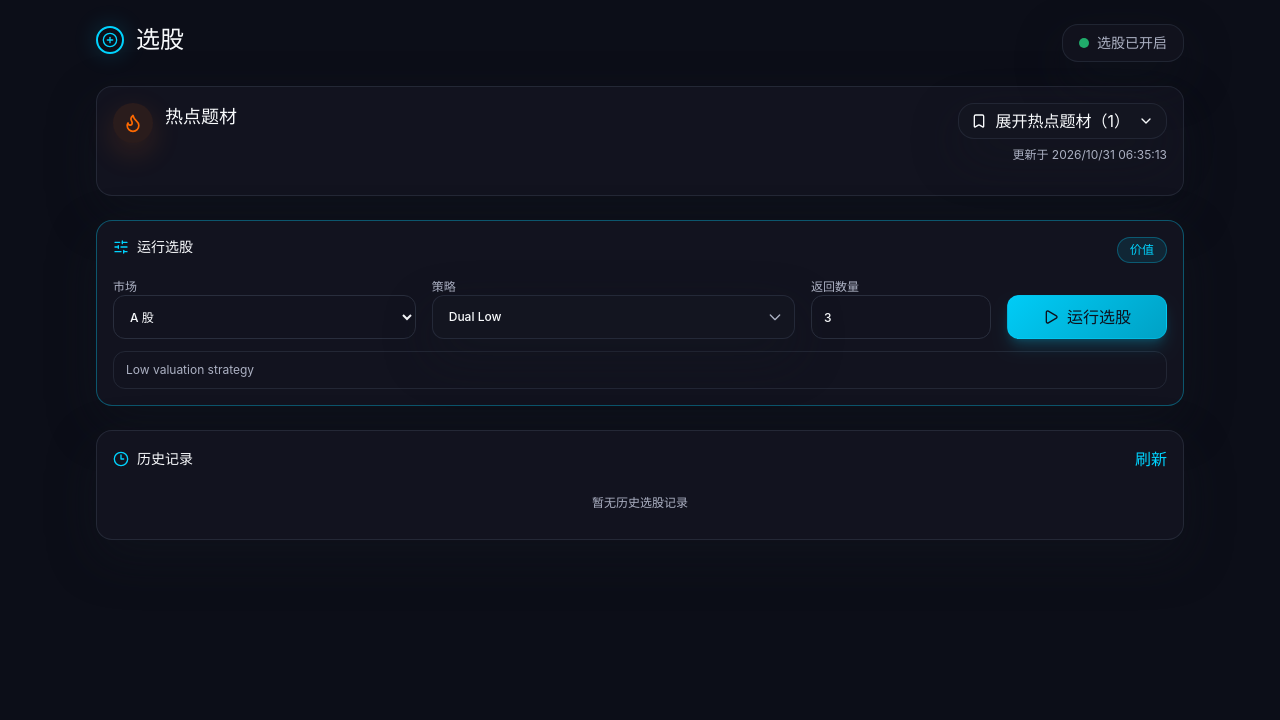
Test: StockScreeningPage › prefers merged hotspot route summaries over raw timeline items
Click the button "展开热点题材（1）".
click(1063, 121)  # box [958,103,1167,139]
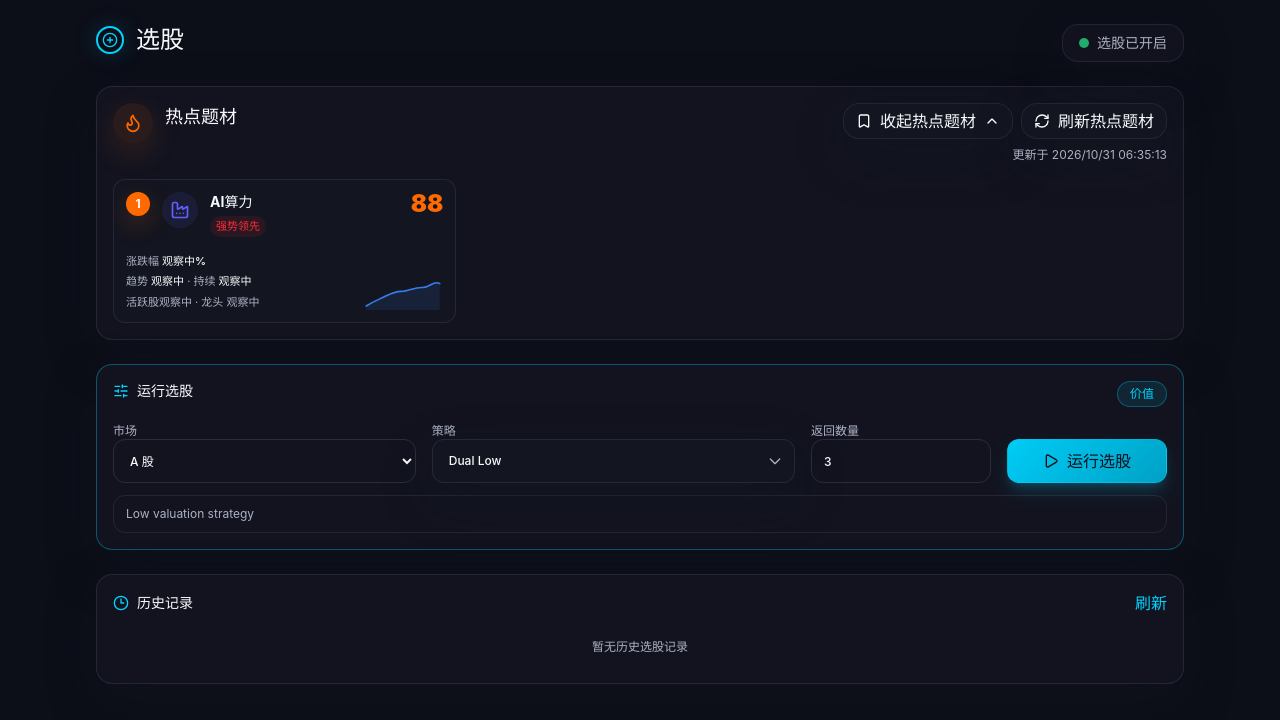
Click the button "1 AI算力 强势领先 88 涨跌幅 观察中% 趋势 观察中 · 持续 观察中 活跃股观察中 · 龙头 观察中".
click(180, 210)  # box [113,179,456,323]
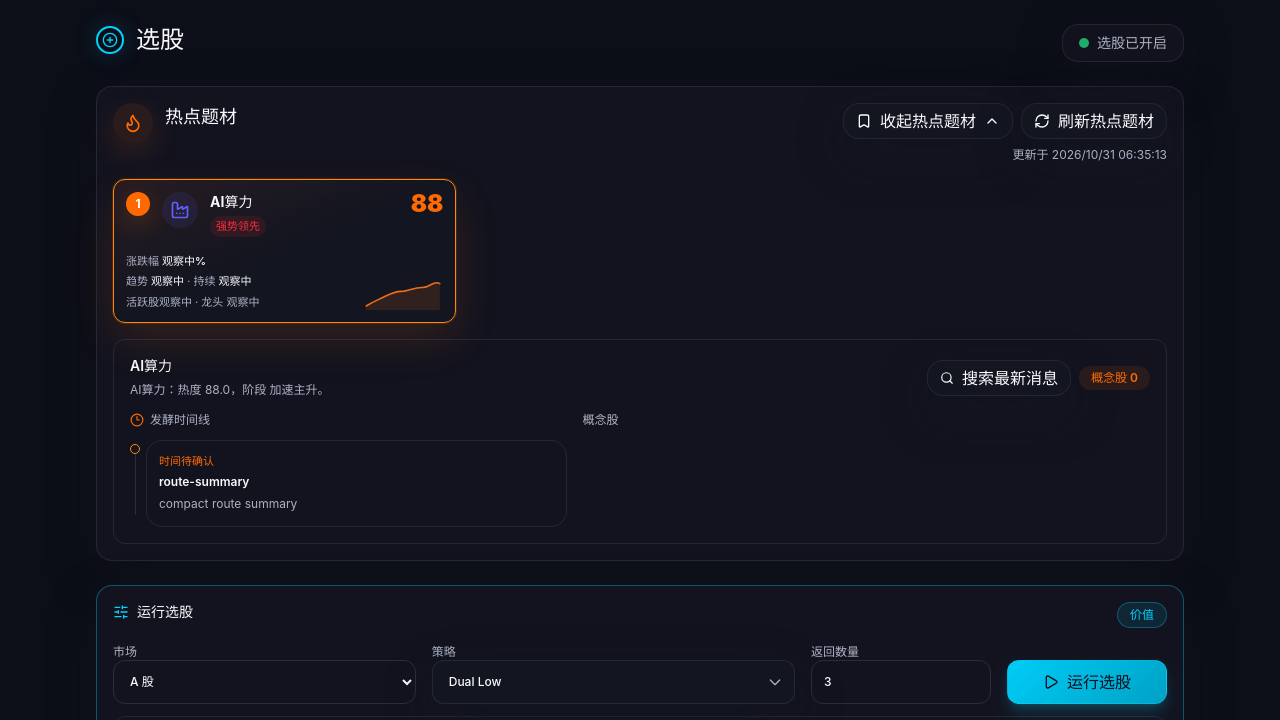
Check: the text "route-summary" is shown, box [159,474,249,488]
Check: the text "compact route summary" is shown, box [159,496,297,510]
